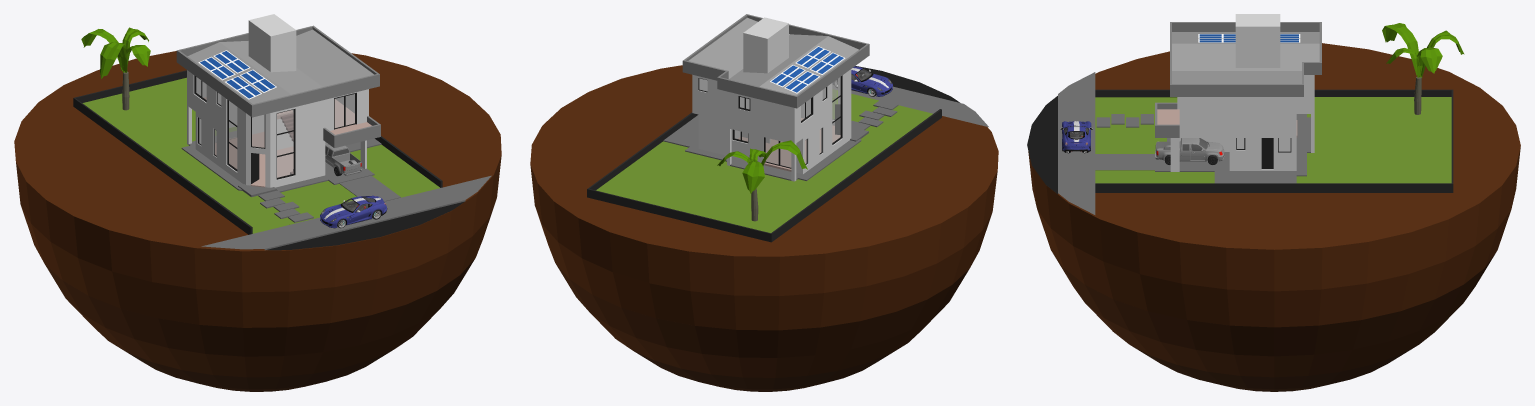
File: House-c.glb
3 views of the same model, side by side, from view 1: azimuth 30°, elevation 25°; view 2: azimuth 150°, elevation 25°; view 3: azimuth 270°, elevation 25° (orthographic). The views are drawn at different scales.
Parts seen in each view (by area): view 1: Sphere, terreno, parede, pisoInferior.006, platibanda.superior, parede.001, terreno.001, Cube.001, pisoInferiorExt.001, palmeira.002, pisoInferiorExt, Plane.023 (+9 smaller); view 2: Sphere, terreno, parede, terreno.001, pisoInferior.006, parede.001, platibanda.superior, Cube.001, pisoInferiorExt, Plane.023, palmeira.002, pisoInferiorExt.001 (+3 smaller); view 3: Sphere, terreno, parede, terreno.001, pisoInferior.006, platibanda.superior, pisoInferiorExt, Cube.001, palmeira.002, pisoInferiorExt.001, Pickup Body, parede.001 (+2 smaller).
Boxes of the visible parts, left/top/right/bottom form: Sphere: left=14, top=51, right=501, bottom=391; terreno: left=82, top=77, right=491, bottom=250; parede: left=195, top=89, right=368, bottom=187; pisoInferior.006: left=187, top=29, right=373, bottom=103; platibanda.superior: left=176, top=25, right=379, bottom=117; parede.001: left=187, top=70, right=325, bottom=147; terreno.001: left=73, top=70, right=442, bottom=234; Cube.001: left=248, top=14, right=296, bottom=72; pisoInferiorExt.001: left=238, top=175, right=400, bottom=222; palmeira.002: left=81, top=27, right=150, bottom=110; pisoInferiorExt: left=181, top=131, right=381, bottom=192; Plane.023: left=198, top=50, right=276, bottom=99; Sphere: left=530, top=65, right=998, bottom=391; terreno: left=596, top=66, right=988, bottom=232; parede: left=692, top=74, right=851, bottom=174; terreno.001: left=587, top=109, right=941, bottom=242; pisoInferior.006: left=688, top=17, right=858, bottom=95; parede.001: left=727, top=69, right=851, bottom=143; platibanda.superior: left=682, top=14, right=869, bottom=108; Cube.001: left=743, top=17, right=788, bottom=73; pisoInferiorExt: left=663, top=115, right=861, bottom=180; Plane.023: left=770, top=46, right=845, bottom=93; palmeira.002: left=717, top=140, right=807, bottom=221; pisoInferiorExt.001: left=850, top=100, right=898, bottom=141; Sphere: left=1028, top=43, right=1520, bottom=391; terreno: left=1027, top=72, right=1451, bottom=214; parede: left=1170, top=97, right=1296, bottom=171; terreno.001: left=1095, top=89, right=1453, bottom=192; pisoInferior.006: left=1172, top=32, right=1319, bottom=83; platibanda.superior: left=1170, top=22, right=1321, bottom=96; pisoInferiorExt: left=1155, top=114, right=1310, bottom=183; Cube.001: left=1235, top=14, right=1280, bottom=67; palmeira.002: left=1382, top=23, right=1464, bottom=114; pisoInferiorExt.001: left=1095, top=114, right=1154, bottom=170; Pickup Body: left=1155, top=138, right=1224, bottom=161; parede.001: left=1177, top=75, right=1314, bottom=113.
Bounding box in the file's own units: 33.1 × 26.03 × 33.1.
51 materials, 11 textured.
